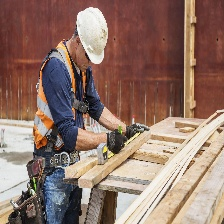helmet: (74, 11, 110, 68)
person: (28, 0, 110, 224)
vest: (33, 43, 85, 165)
